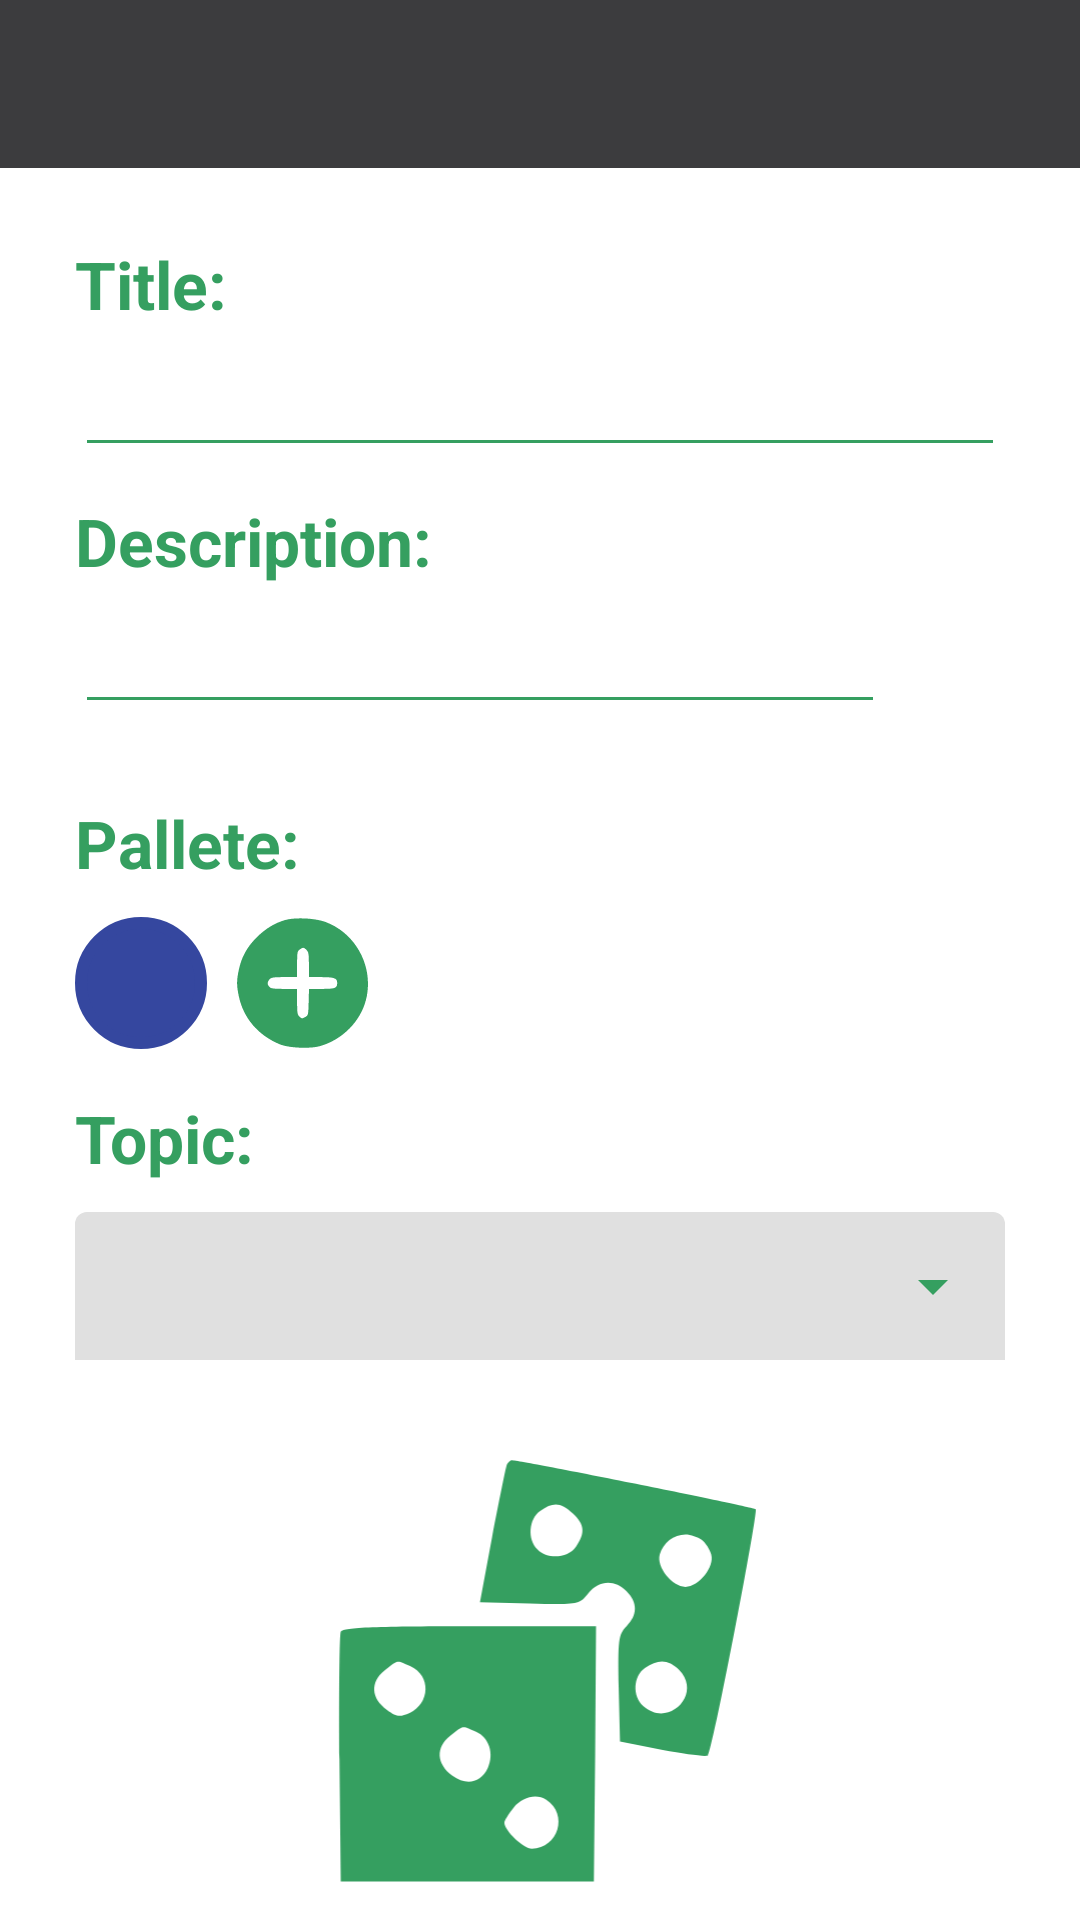

Screen size 1080 x 1920. Icon name, then its box in pixels as Rect(x1, y1, x2, y2):
add: Rect(237, 918, 368, 1048)
